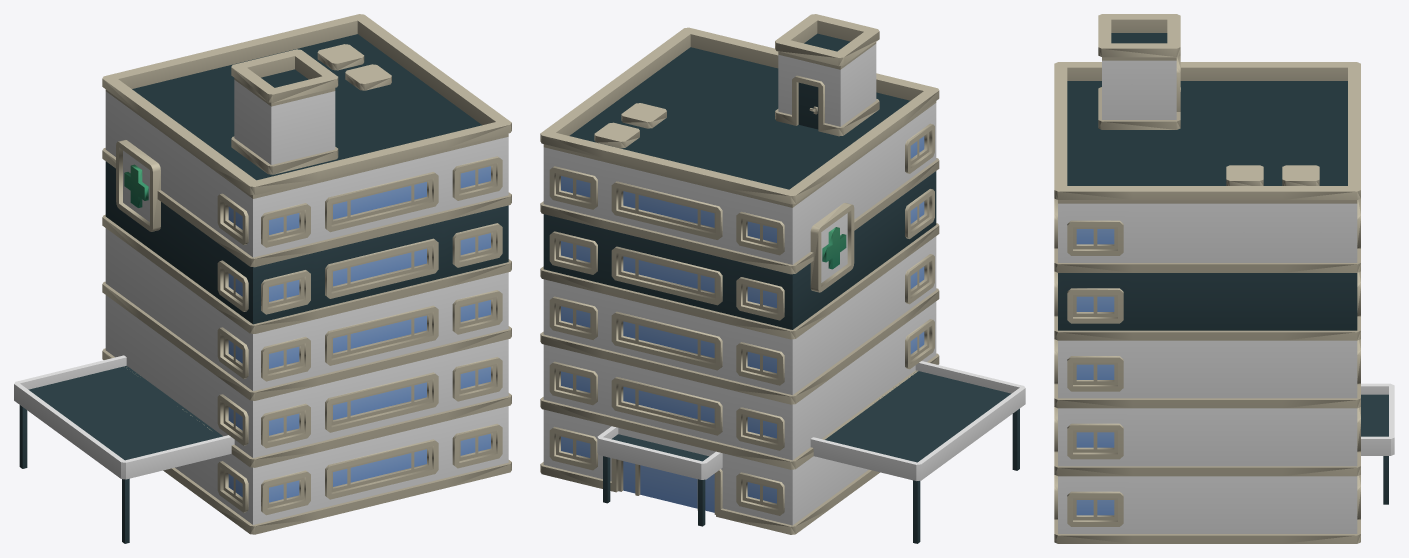
Rendered from building-n.glb.
3 views of the same model, side by side, from view 1: azimuth 30°, elevation 25°; view 2: azimuth 150°, elevation 25°; view 3: azimuth 270°, elevation 25° (orthographic). The views are drawn at different scales.
Visible parts, largest first — view 1: building-n; view 2: building-n; view 3: building-n.
Part boxes in pixels (x1,y1,x2,y2): building-n: (14, 14, 511, 543); building-n: (540, 14, 1025, 543); building-n: (1054, 14, 1394, 543).
Size of the model in its own units: 23.2 by 24.8 by 18.2.
